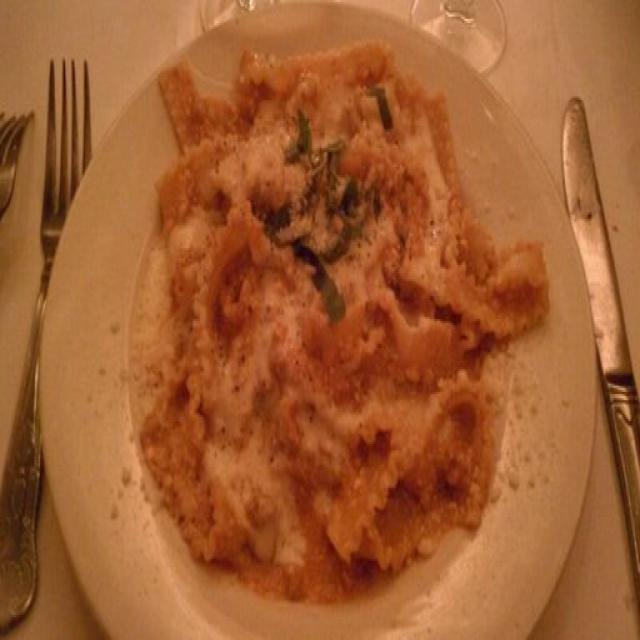Lasagna: (141, 83, 529, 559)
